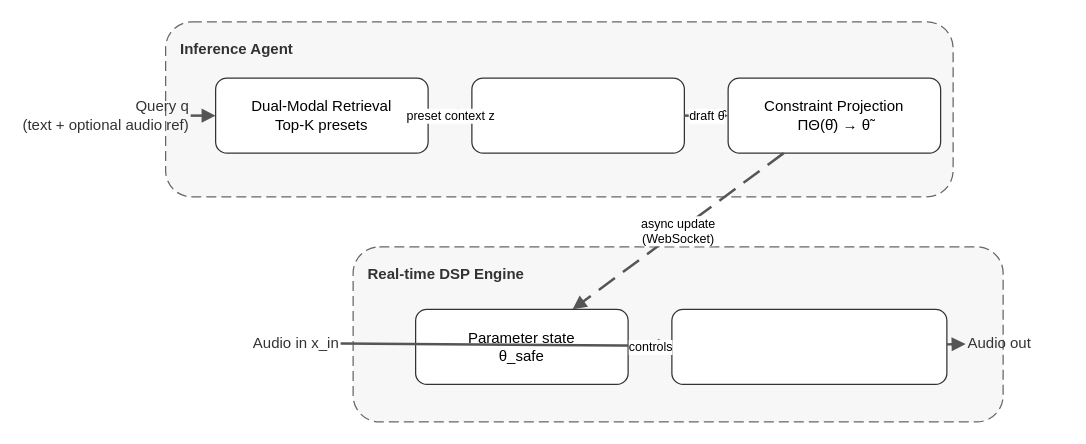
This 1086x444 diagram has some shape labels left out. The shapes that lost their labels are listed below. From the top down, each one's centre as x and y in pixels, then its label:
At point 577,115: "LLM Adaptation Draft θ̂".
At point 809,346: "Audio processor Φ(x_in; θ_safe)".
